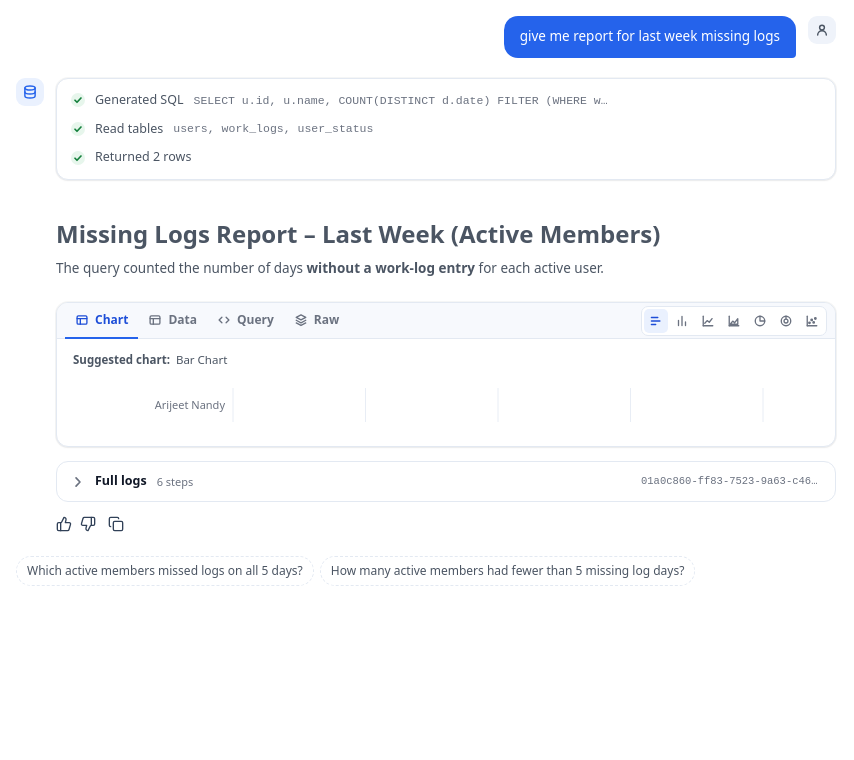
Test: a live NL2SQL answer, field by field › still draws the chart when only graph_output carries it
Expected: the tab "Chart" is shown, x1=65 y1=303 x2=138 y2=339
Expected: the text "Suggested chart:" is shown, x1=73 y1=351 x2=170 y2=368
// The run log reports the chart step off the same block.
Click the button "Full logs 6 steps 01a0c860-ff83-7523-9a63-c466e184016b".
click(121, 481)  # box x1=57 y1=462 x2=835 y2=501
(page scrolled)
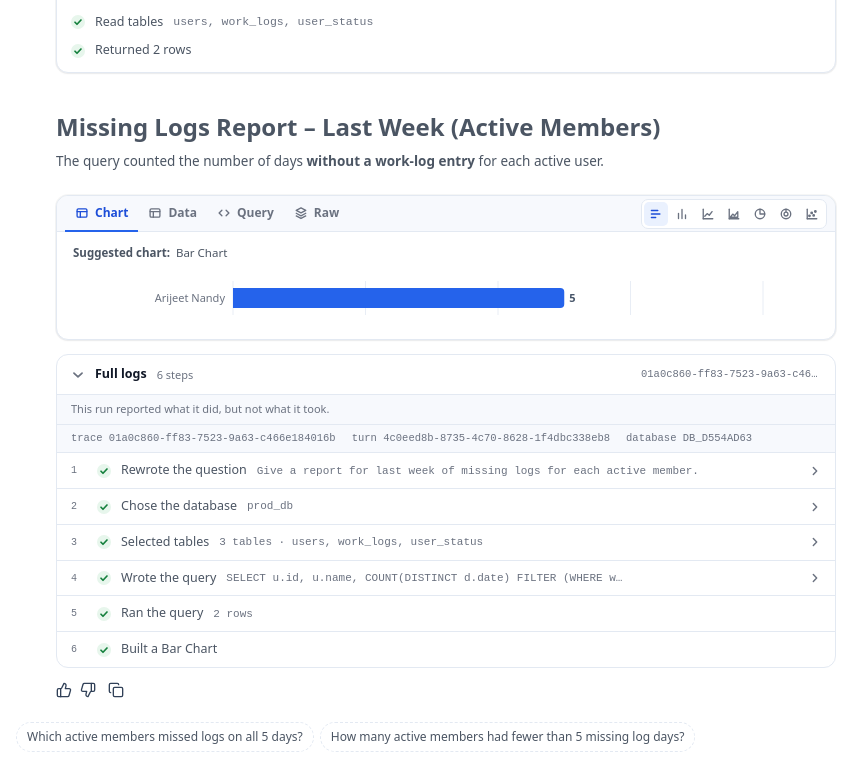
Now the text "Built a Bar Chart" is shown, box x1=121 y1=640 x2=217 y2=659
